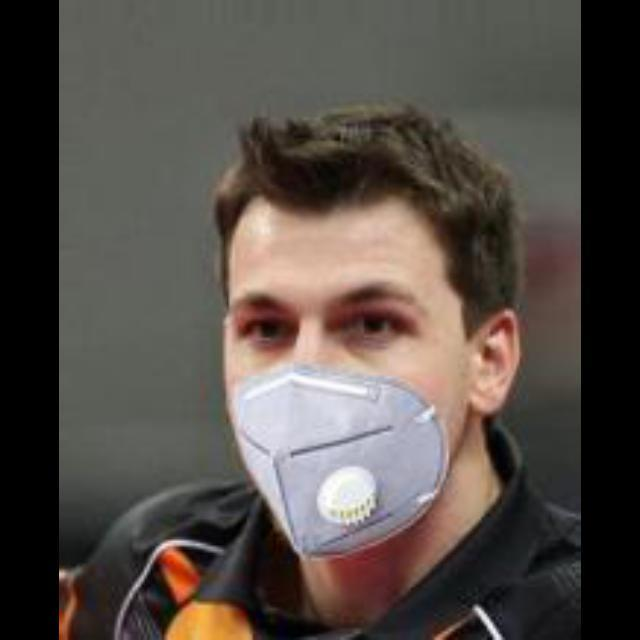suspicion: (176, 106, 518, 536)
